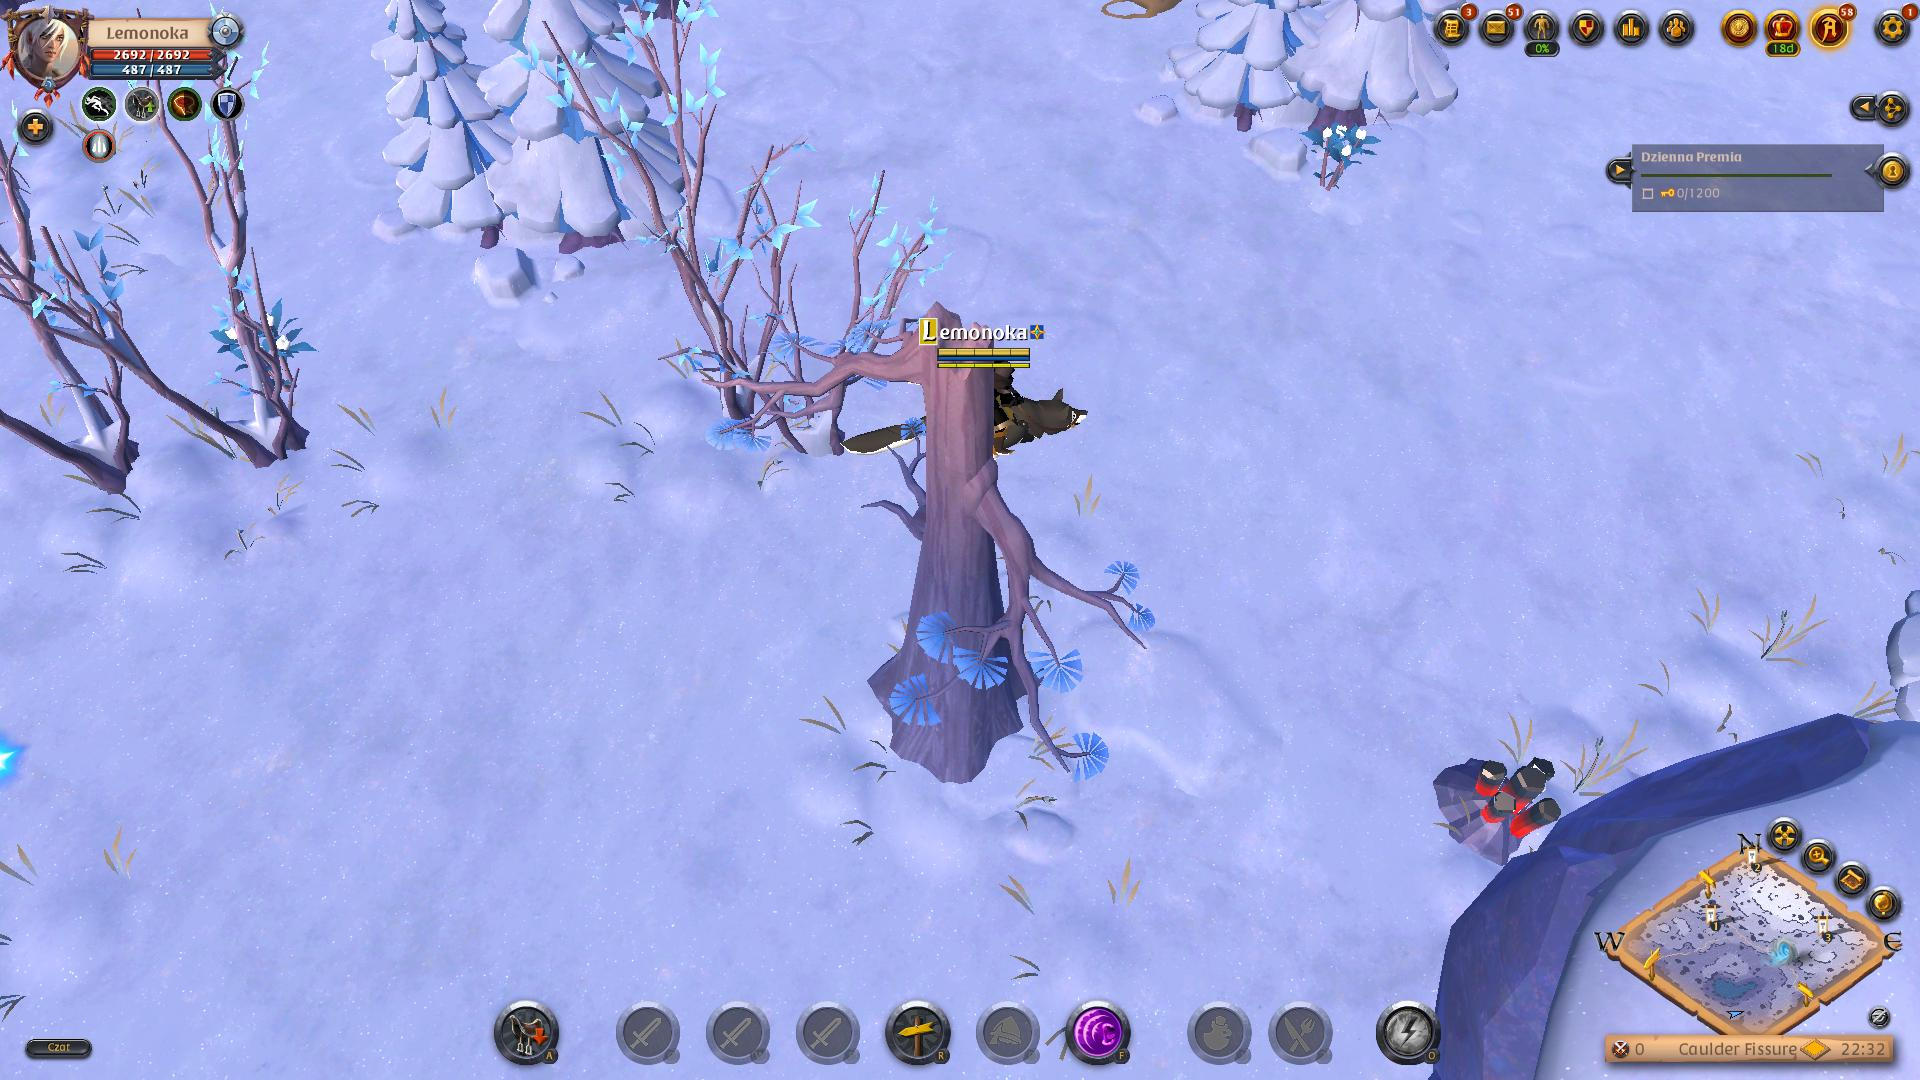fiber tier 4: (1302, 116, 1379, 198)
ore tier 5: (1433, 745, 1564, 861)
